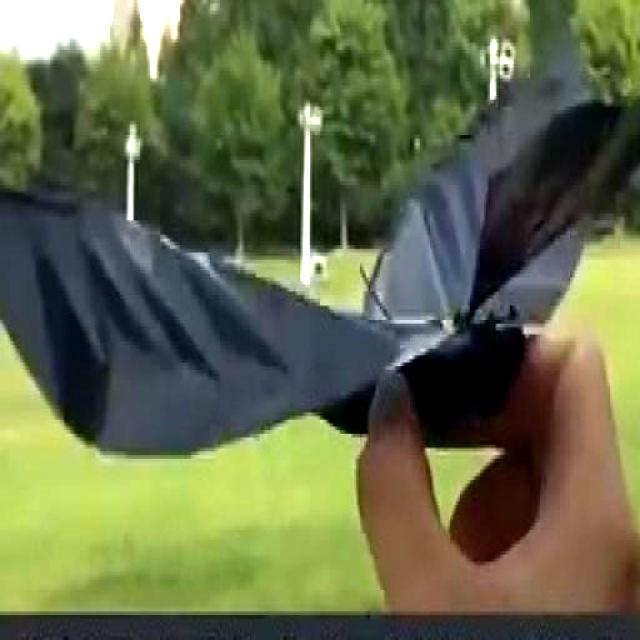airplane: (0, 40, 640, 458)
